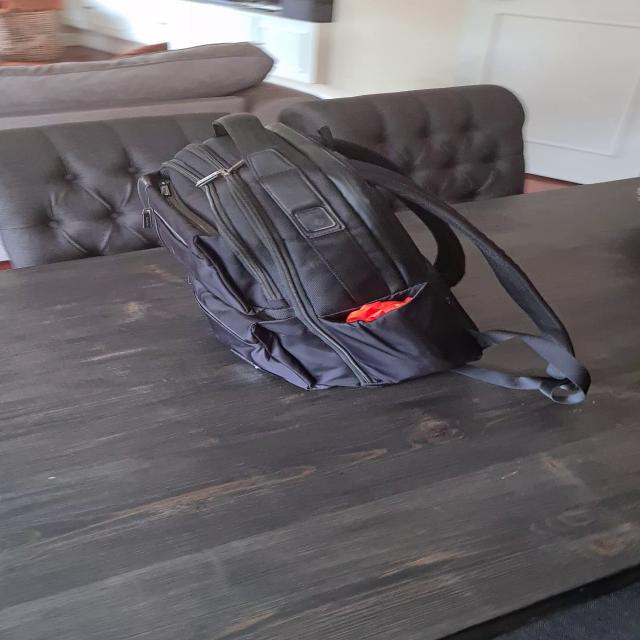backpack: (133, 110, 530, 394)
